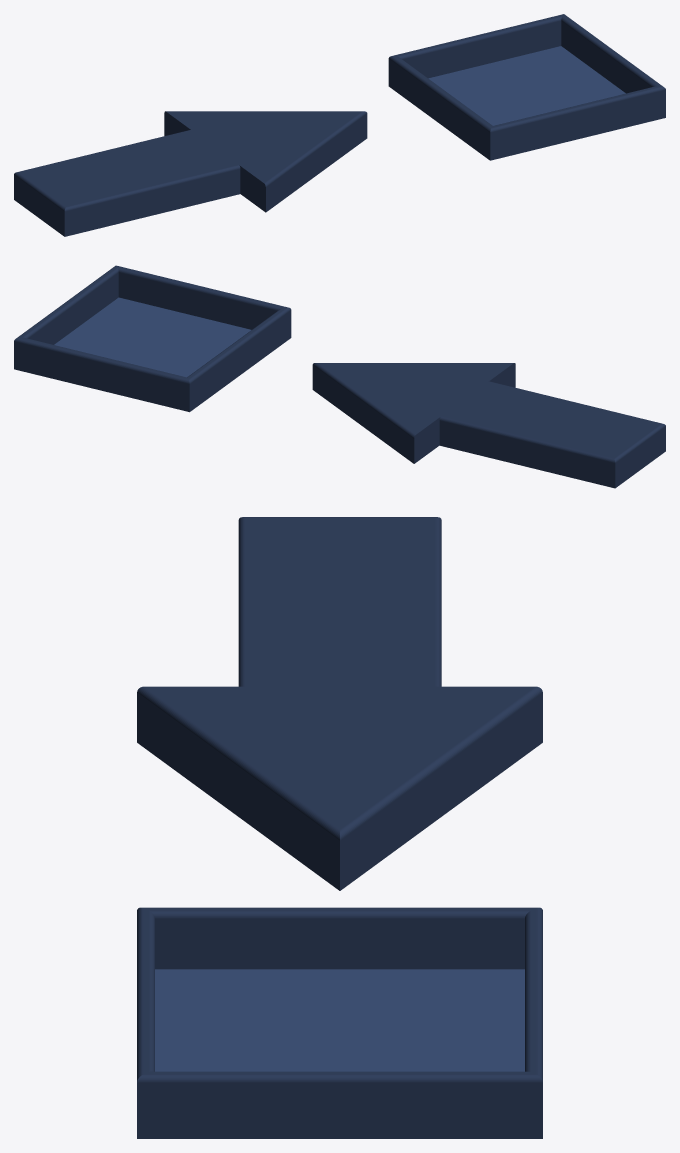
File: inventoryvaluebox.fbx
3 renders of one model, top to bottom at view 1: azimuth 30°, elevation 25°; view 2: azimuth 150°, elevation 25°; view 3: azimuth 270°, elevation 25°, orthographic. The views are drawn at different scales.
Visible parts, largest first — view 1: inventoryvaluebox, arrowbody, arrowtriangle; view 2: inventoryvaluebox, arrowbody, arrowtriangle; view 3: inventoryvaluebox, arrowtriangle, arrowbody.
Part boxes in pixels (bbox=[...]): inventoryvaluebox: bbox=[388, 14, 665, 160]; arrowbody: bbox=[14, 130, 240, 236]; arrowtriangle: bbox=[164, 111, 367, 212]; inventoryvaluebox: bbox=[14, 265, 291, 412]; arrowbody: bbox=[439, 381, 665, 488]; arrowtriangle: bbox=[312, 363, 515, 463]; inventoryvaluebox: bbox=[137, 907, 542, 1138]; arrowtriangle: bbox=[137, 686, 542, 890]; arrowbody: bbox=[238, 517, 441, 686].
Size of the model in its own units: 215 by 11 by 65.57.
